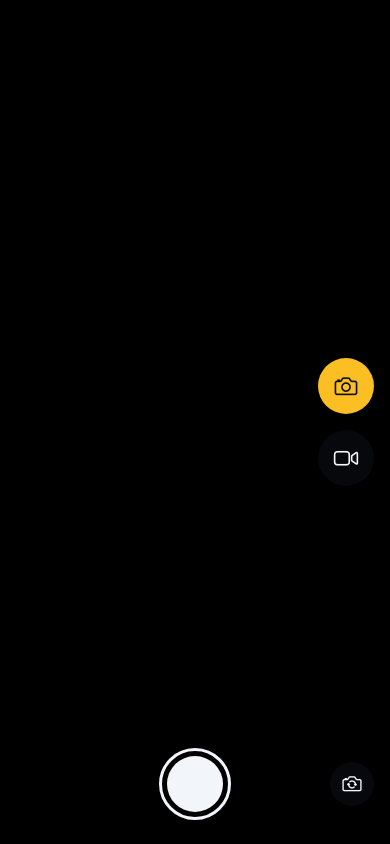
Test case: recording a video › comes back to idle once the clip is stored
Click the radio button named "Video" at (346, 458), box [318,430,374,486]
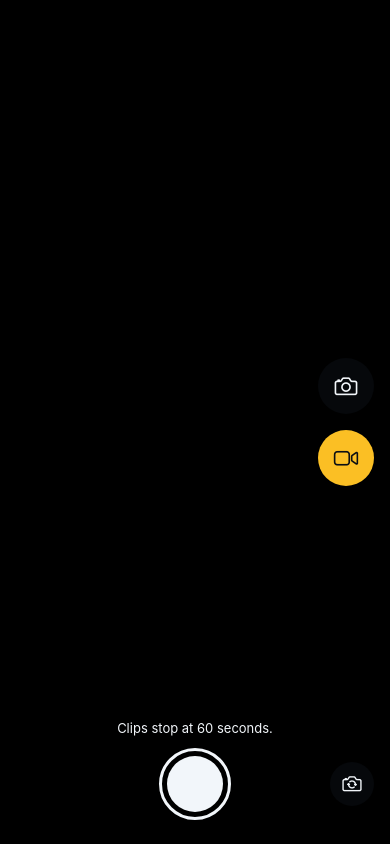
Click the button named "Start video" at (195, 784), box [159,748,231,820]
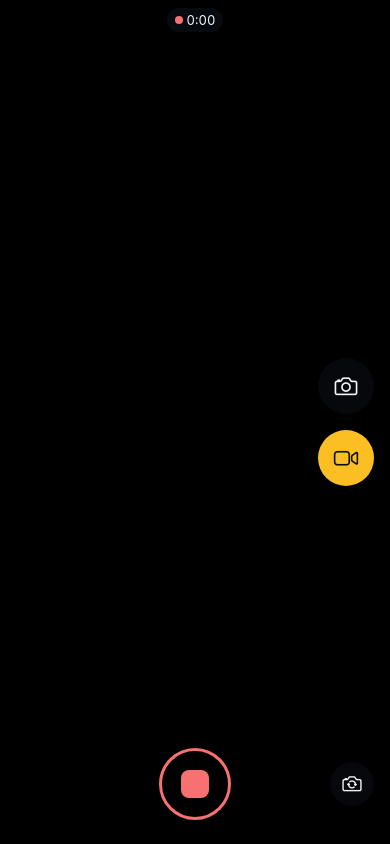
Click the button named "Stop video" at (195, 784), box [159,748,231,820]
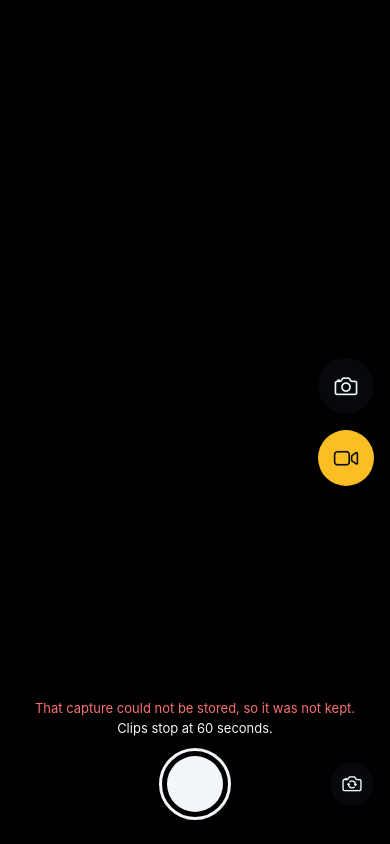
Expected: the button named "Start video" is shown, [159,748,231,820]
